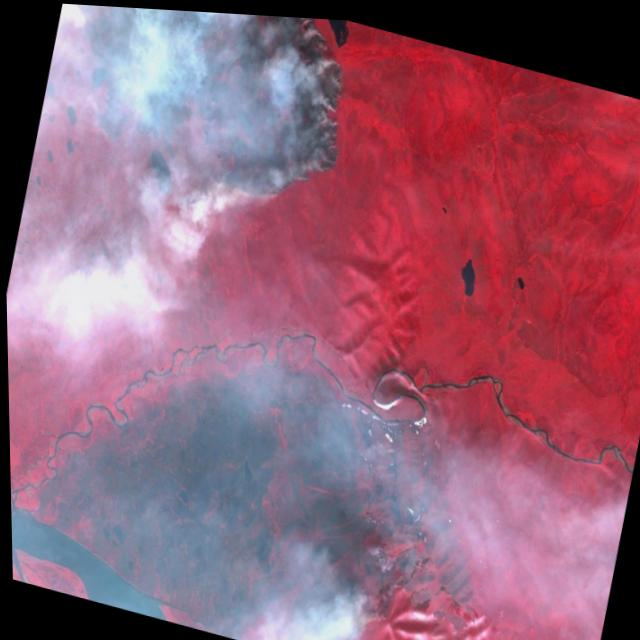fire: (31, 1, 373, 220), (316, 446, 447, 640)
